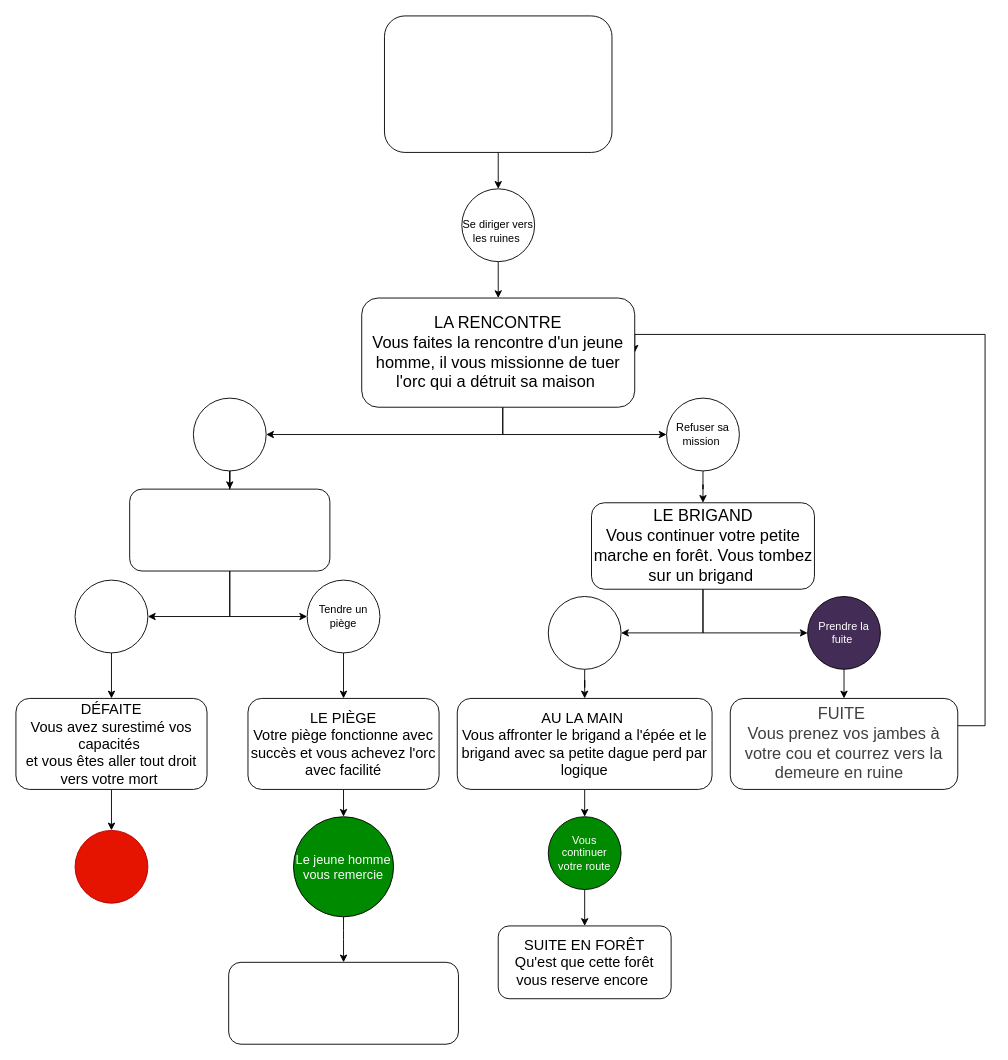
The diagram is 1008 pixels wide and 1060 high, and some of its shapes have lost their labels. The centre of each missing label's shape, as x and y in pixels:
"Accepter sa mission" goes at pixel 229 434.
"Affronter le brigand" goes at pixel 584 632.
"L'affronter en face" goes at pixel 111 616.
"L'ORC Le jeune homme vous accompagne vers l'orc et vous lui faite face" goes at pixel 229 529.
"LA FORÊT Vous êtes en forêt lorsque vous apercevez une demeure en ruine." goes at pixel 498 83.
"Recommencer" goes at pixel 111 866.
"VERS LE ROYAUME Vous décidez d'accompagenr le jeune homme vers le royame" goes at pixel 343 1002.
